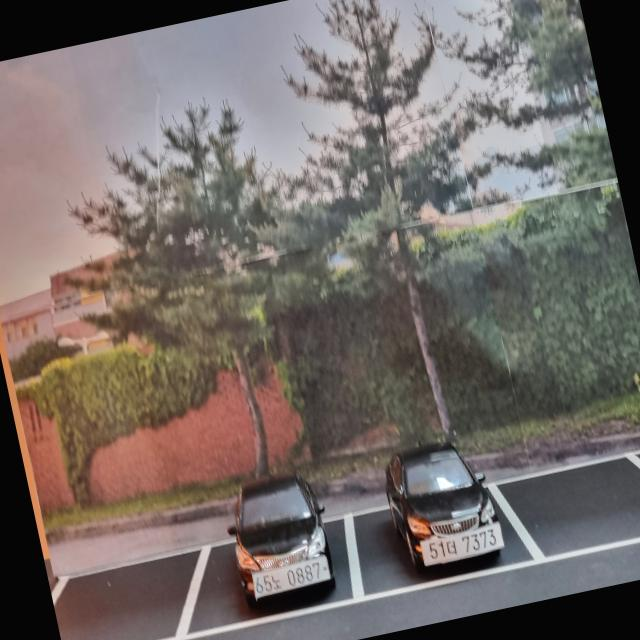car: (356, 425, 518, 594), (208, 462, 346, 626)
free: (485, 440, 640, 569), (46, 537, 231, 640)
